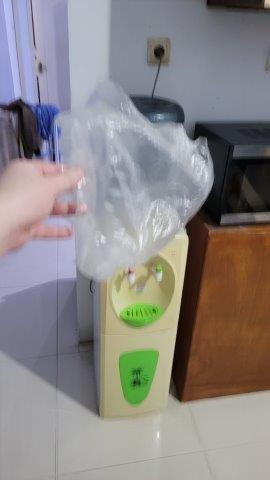plastik: (51, 82, 217, 277)
